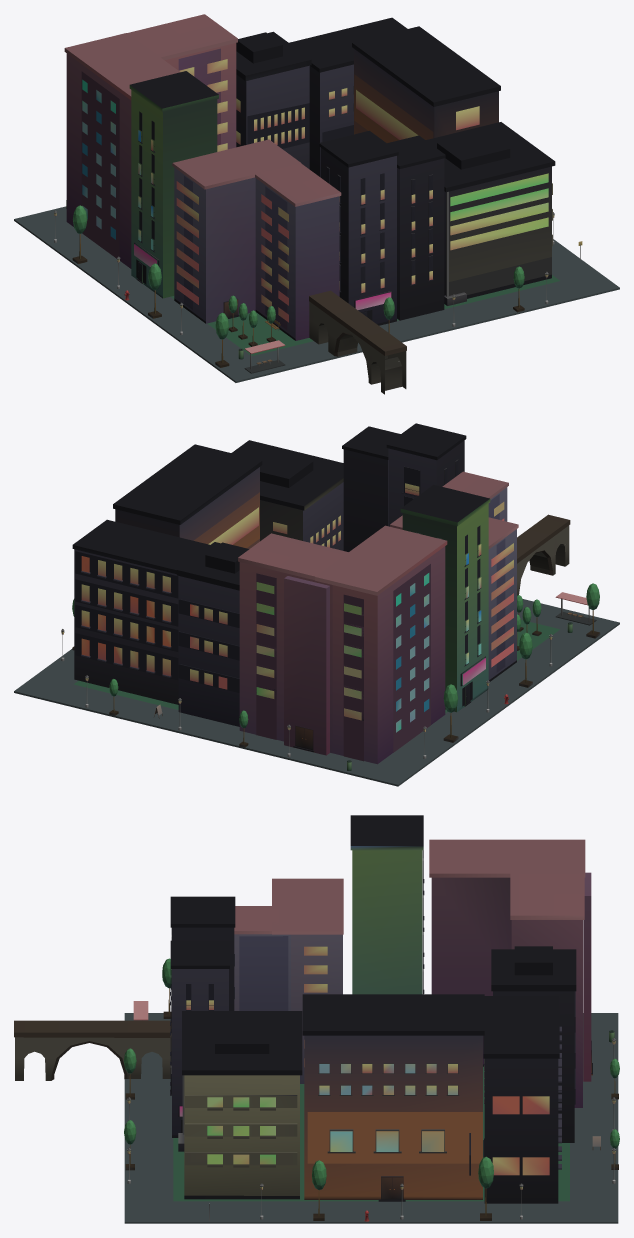
The model's file is building-block-mid-z.fbx.
The picture shows the model from 3 angles, top to bottom: view 1: azimuth 30°, elevation 25°; view 2: azimuth 150°, elevation 25°; view 3: azimuth 270°, elevation 25°; orthographic projection. The views are drawn at different scales.
Visible parts, largest first — view 1: building-block-mid; view 2: building-block-mid; view 3: building-block-mid.
Part boxes in pixels (bbox=[...]): building-block-mid: bbox=[14, 14, 619, 394]; building-block-mid: bbox=[14, 423, 619, 786]; building-block-mid: bbox=[14, 815, 619, 1223].
Bounding box in the file's own units: 41.03 × 20.02 × 50.15.
